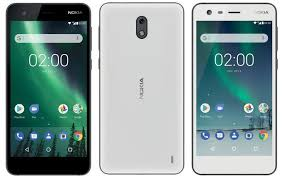nokia: (191, 1, 281, 178), (3, 2, 93, 175), (95, 2, 185, 175)
